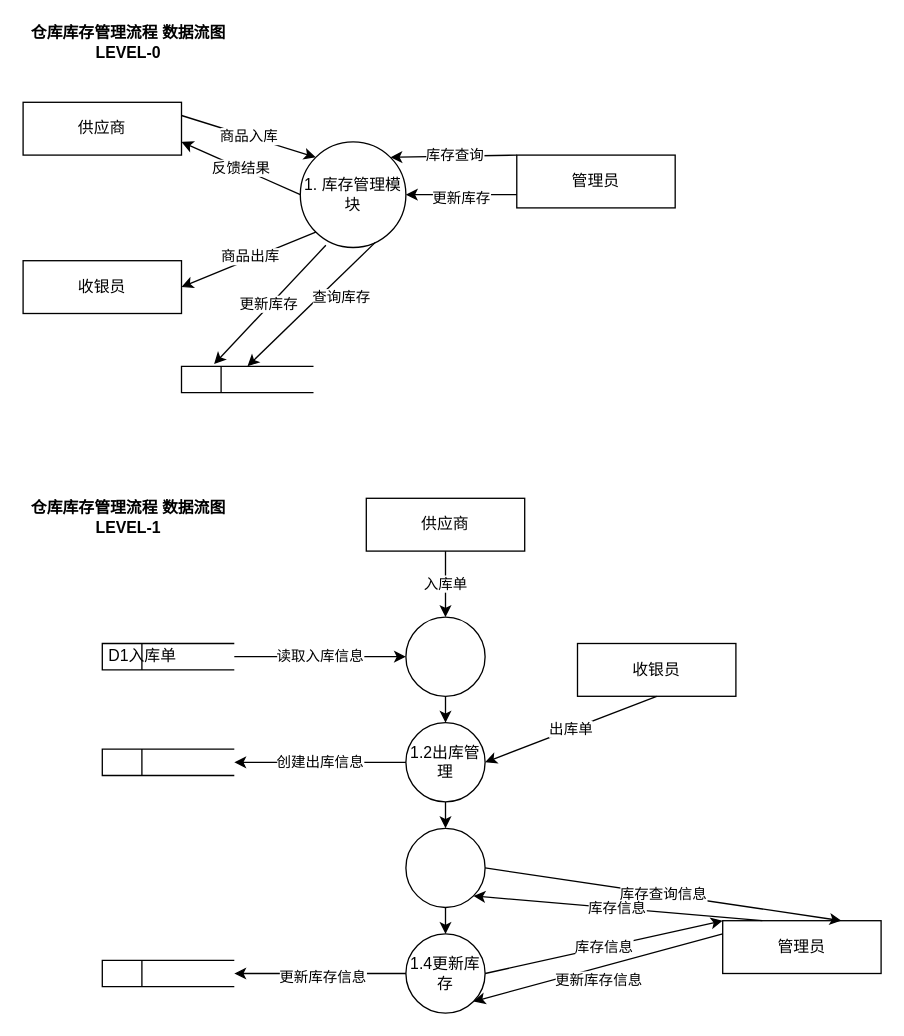
Some shapes in this 904 by 1036 pixel diagram are drawn without their labels. Each missing label, with the centre of its shape:
1.1入库管理: pixel 445 656
1.3库存查询: pixel 445 867
D1库存数据库: pixel 247 379
D2 库存信息: pixel 167 973
D2出库单: pixel 167 762
